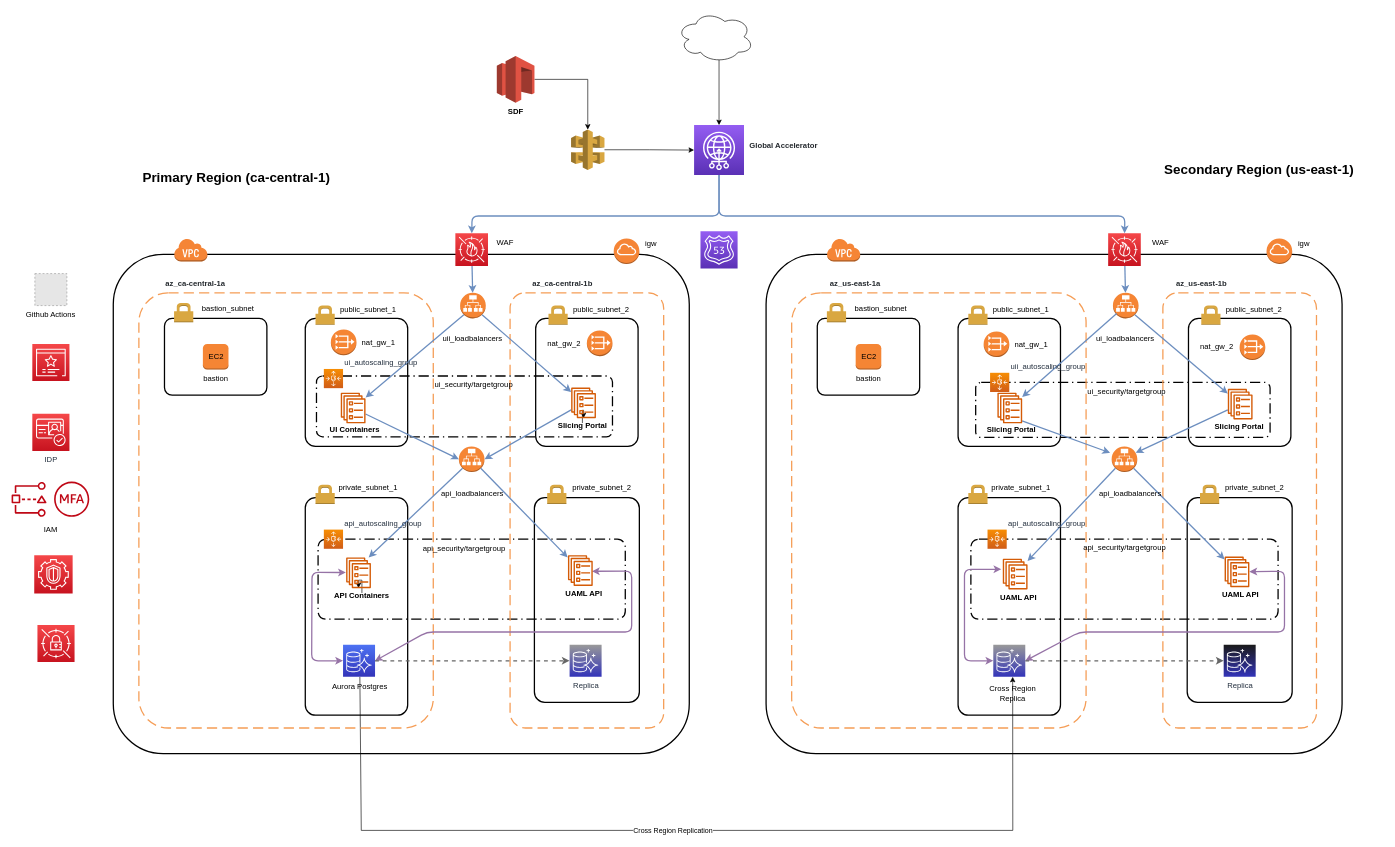
This 1395x847 diagram has some shape labels left out. Grey dashed boxes stand in for pictures. The shapes that lost their labels are listed below. From the top down, each one's box as (x1, y1, x2, y2) in pixels, then its label:
(676, 11, 754, 62): Internet
(570, 129, 604, 170): Kong Gateway
(32, 343, 69, 381): Certificate Manager
(34, 555, 73, 594): Guard Duty
(37, 624, 75, 662): Secret Manager
